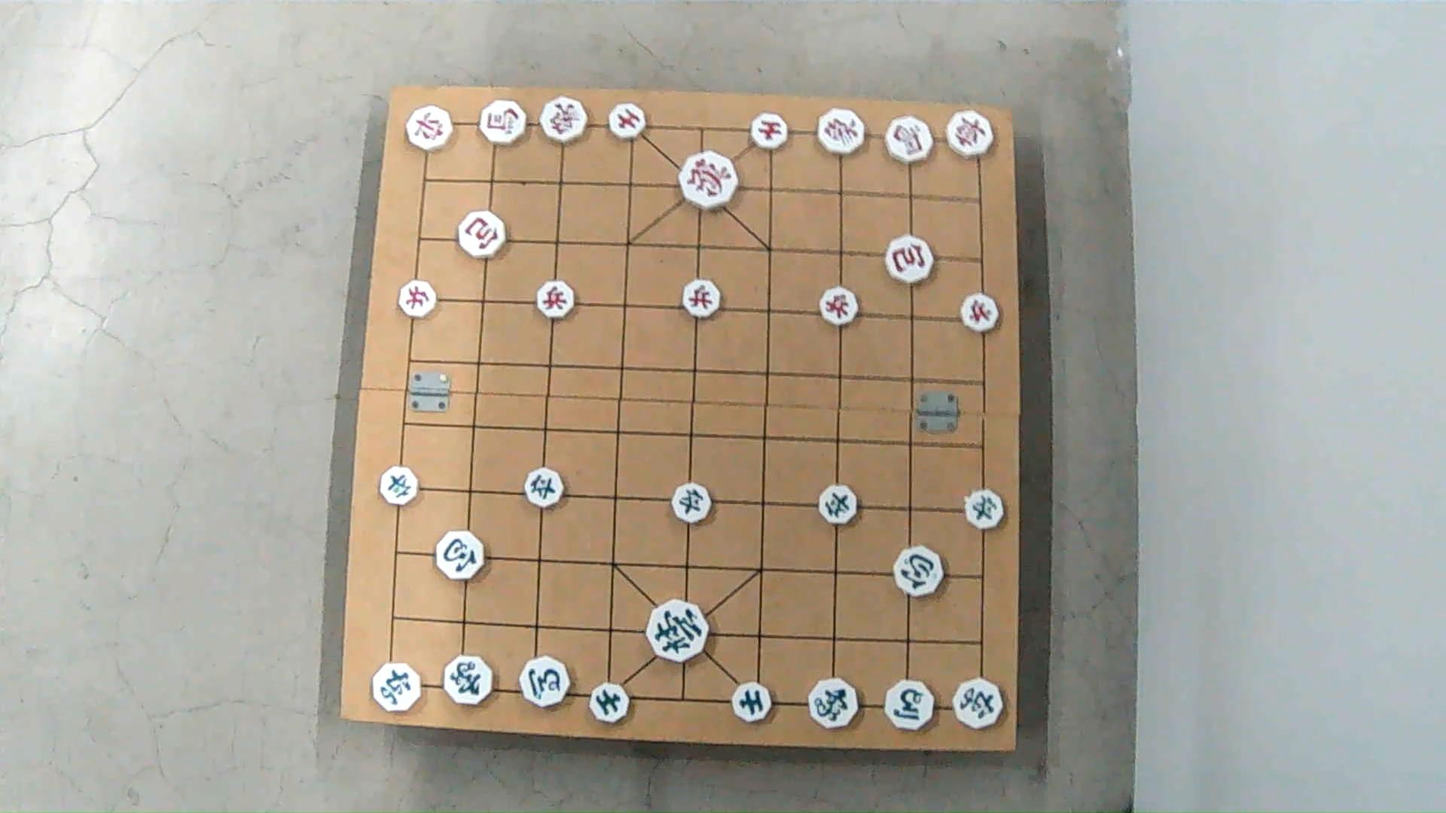cha_green: (954, 679, 1007, 729), (373, 665, 425, 711)
cha_red: (945, 111, 997, 154), (406, 108, 456, 149)
jol_green: (670, 486, 716, 522), (962, 492, 1008, 528), (523, 468, 566, 504), (380, 468, 423, 504), (815, 486, 859, 520)
jol_red: (818, 287, 860, 326), (682, 280, 724, 319), (535, 281, 578, 319), (957, 294, 1002, 329), (396, 285, 438, 317)
ma_green: (882, 679, 938, 730), (519, 659, 572, 707)
ma_red: (882, 117, 935, 166), (478, 99, 529, 145)
po_green: (892, 543, 947, 598), (432, 532, 491, 581)
po_red: (885, 236, 938, 285), (459, 214, 509, 255)
sa_green: (588, 684, 630, 722), (731, 685, 774, 722)
sa_red: (748, 113, 790, 151), (609, 103, 649, 140)
sang_green: (443, 654, 493, 707), (807, 679, 858, 729)
sang_red: (815, 108, 866, 155), (539, 98, 592, 143)
wang_green: (644, 601, 712, 660)
wang_red: (678, 149, 737, 209)
